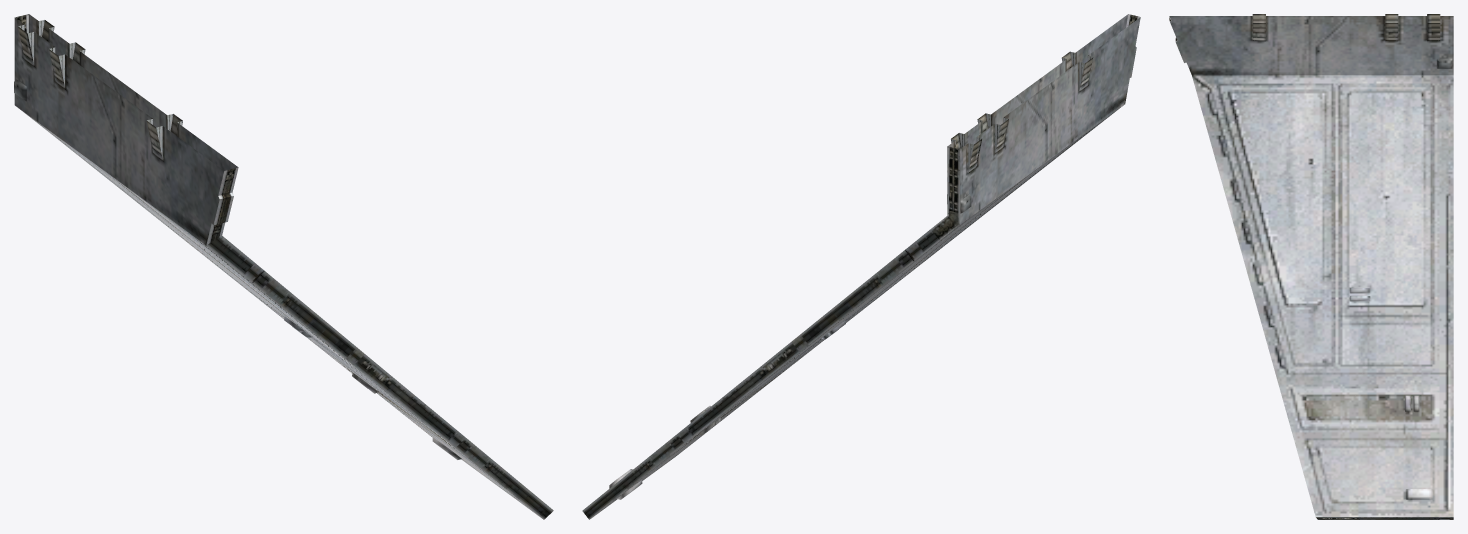
File: lambda_wing_right_l0.fbx
3 views of the same model, side by side, from view 1: azimuth 30°, elevation 25°; view 2: azimuth 150°, elevation 25°; view 3: azimuth 270°, elevation 25° (orthographic). The views are drawn at different scales.
Parts seen in each view (by area): view 1: mesh_node; view 2: mesh_node; view 3: mesh_node.
Part boxes in pixels (x1,y1,x2,y2): mesh_node: (14,14,553,519); mesh_node: (582,14,1140,519); mesh_node: (1169,14,1453,519).
Size of the model in its own units: 13.46 by 15.46 by 11.
